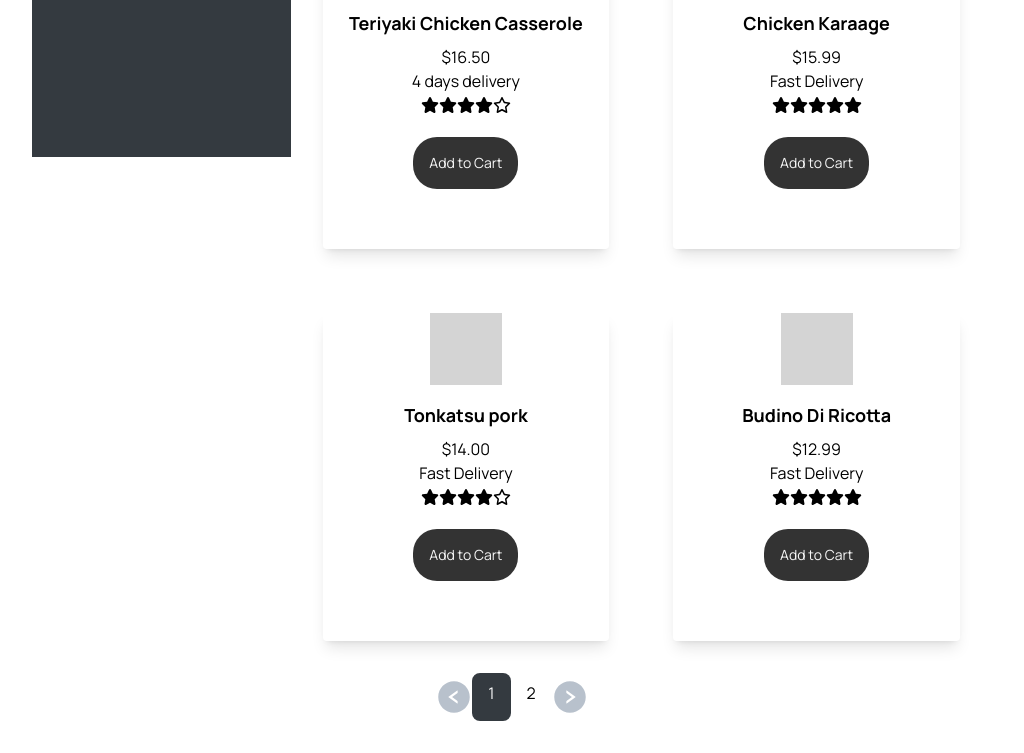
Test: Meals page component › Go to second page of product list
(page scrolled)
Click the button with test id "next": (570, 679) [552, 679, 588, 715]
(page scrolled)
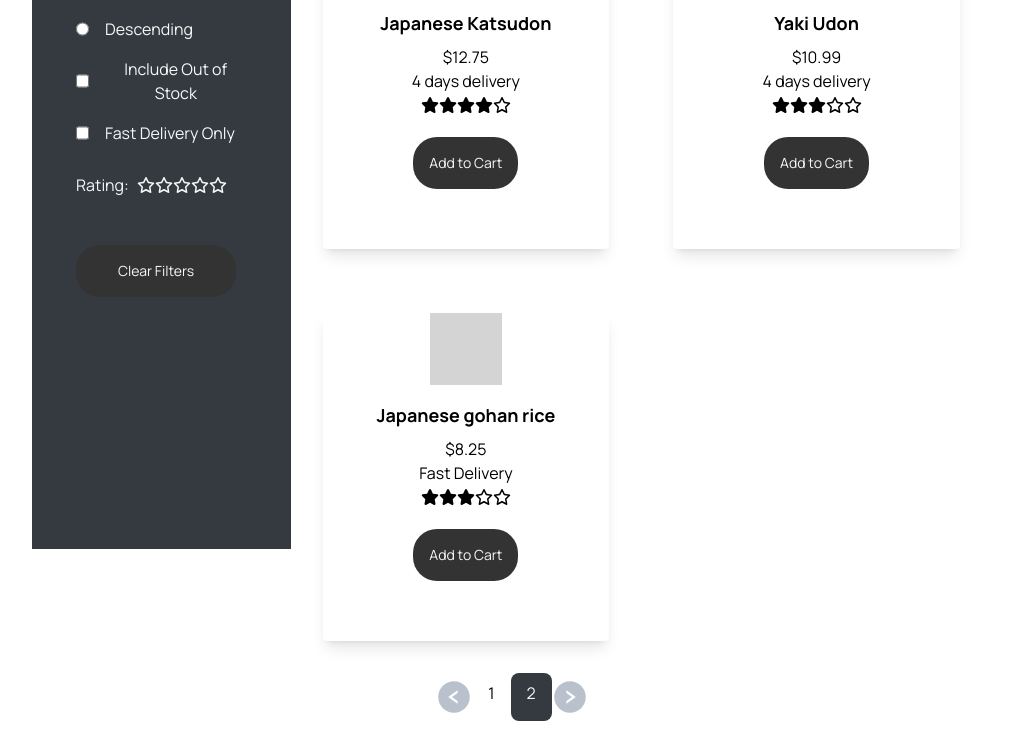
expect the text "Japanese gohan rice" is shown once: met, box [376, 401, 555, 429]
